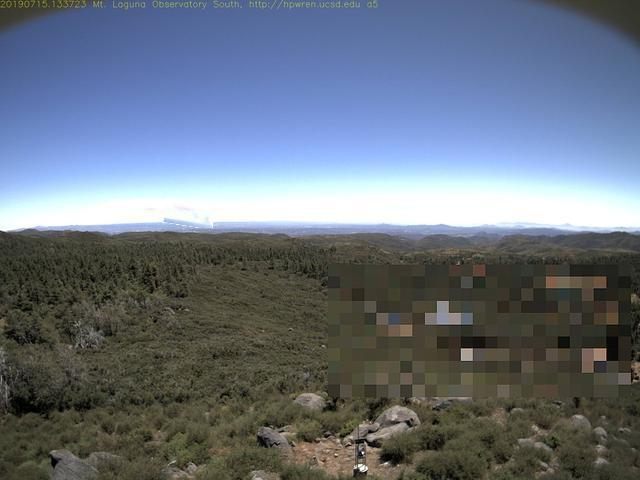smoke: (165, 200, 216, 229)
